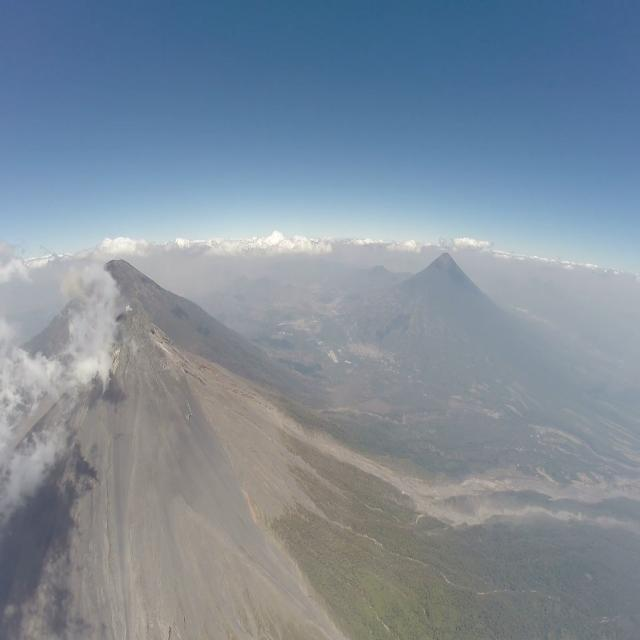Plume: (58, 264, 88, 310)
Summit: (90, 296, 188, 390)
